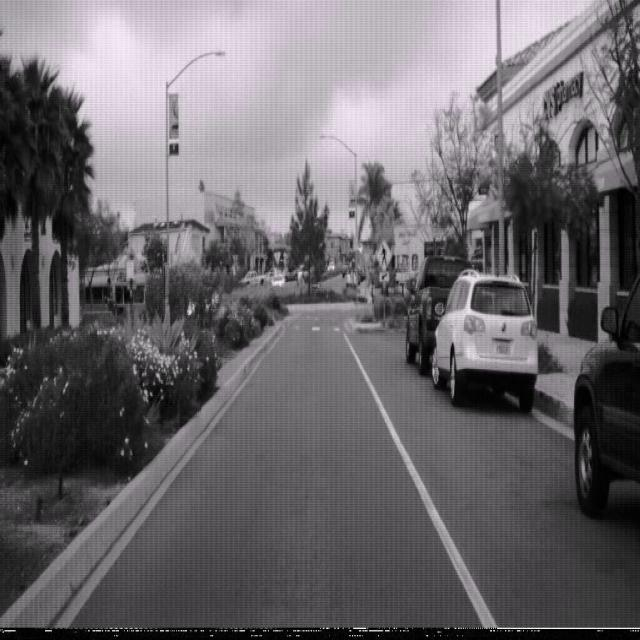pedestrianCrossing: (374, 236, 392, 274)
